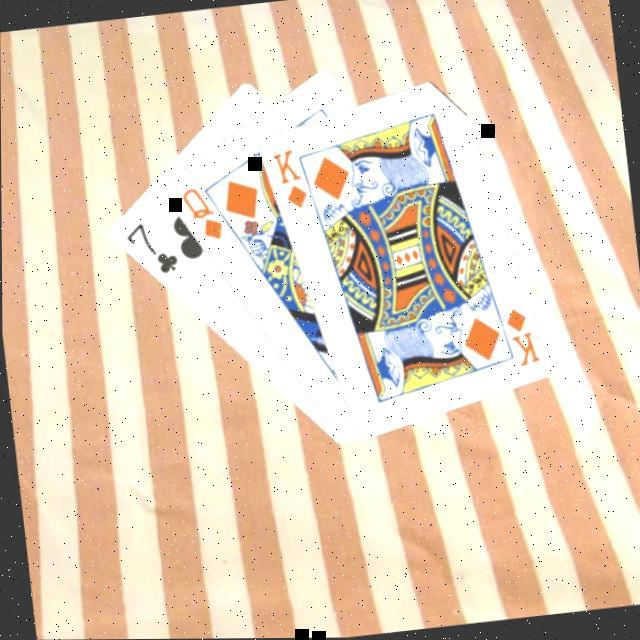7C: (118, 214, 180, 280)
KD: (266, 143, 309, 213), (499, 302, 541, 369)
QD: (175, 180, 224, 244)
